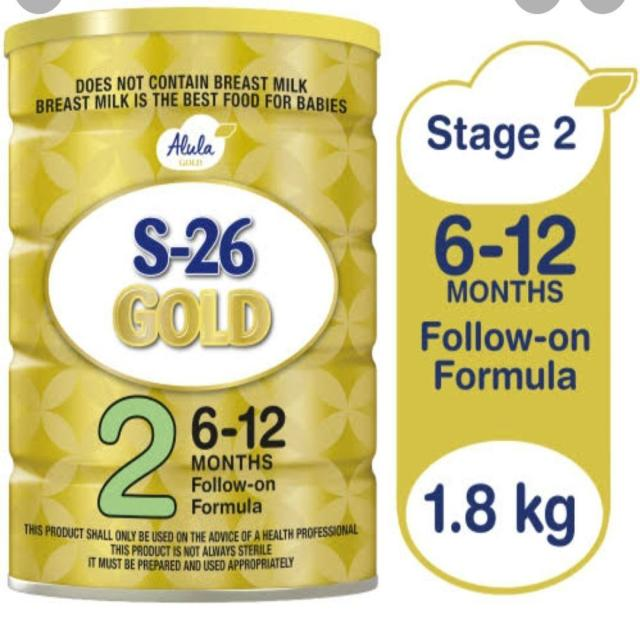food-supliment: (12, 37, 367, 580)
formula-milk: (394, 88, 606, 566)
